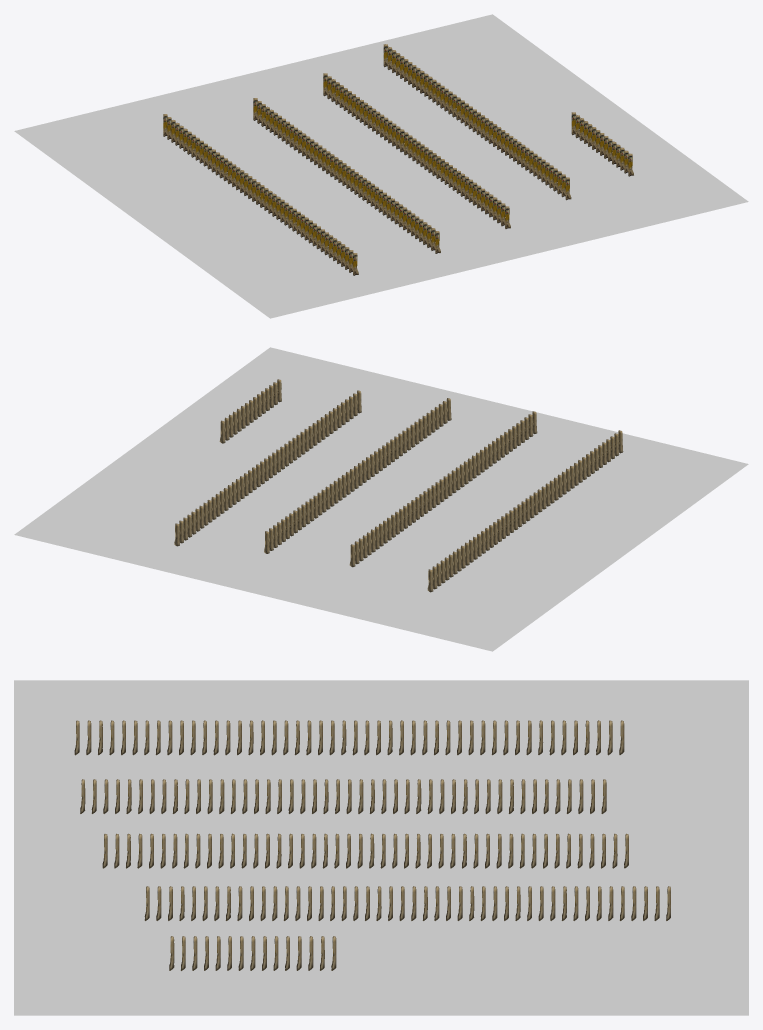
Rendered from Plane_200_Assets.FBX.
The picture shows the model from 3 angles, top to bottom: view 1: azimuth 30°, elevation 25°; view 2: azimuth 150°, elevation 25°; view 3: azimuth 270°, elevation 25°; orthographic projection. The views are drawn at different scales.
Visible parts, largest first — view 1: Plane001; view 2: Plane001; view 3: Plane001.
Part boxes in pixels (<box>): Plane001: <box>14,14,748,318</box>; Plane001: <box>14,347,748,651</box>; Plane001: <box>14,680,748,1015</box>.
Size of the model in its own units: 22971 by 1067 by 21298.
Materials: 1 (1 with a texture image).
